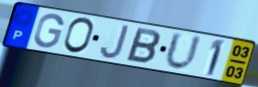1: (207, 39, 226, 79)
B: (124, 26, 162, 66)
G: (32, 12, 66, 49)
J: (99, 23, 131, 60)
O: (61, 17, 96, 56)
U: (163, 30, 204, 73)
